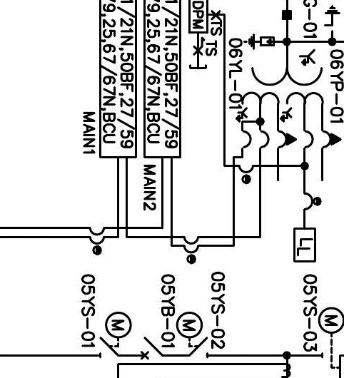115_1way_ds_w_motor: (175, 311, 209, 359), (98, 311, 132, 359)
115_breaker: (140, 336, 163, 360)
115_gs: (323, 4, 341, 33)
115_la: (243, 33, 275, 50)
115_vt_3p: (235, 48, 342, 149)
LL: (293, 227, 317, 263)
